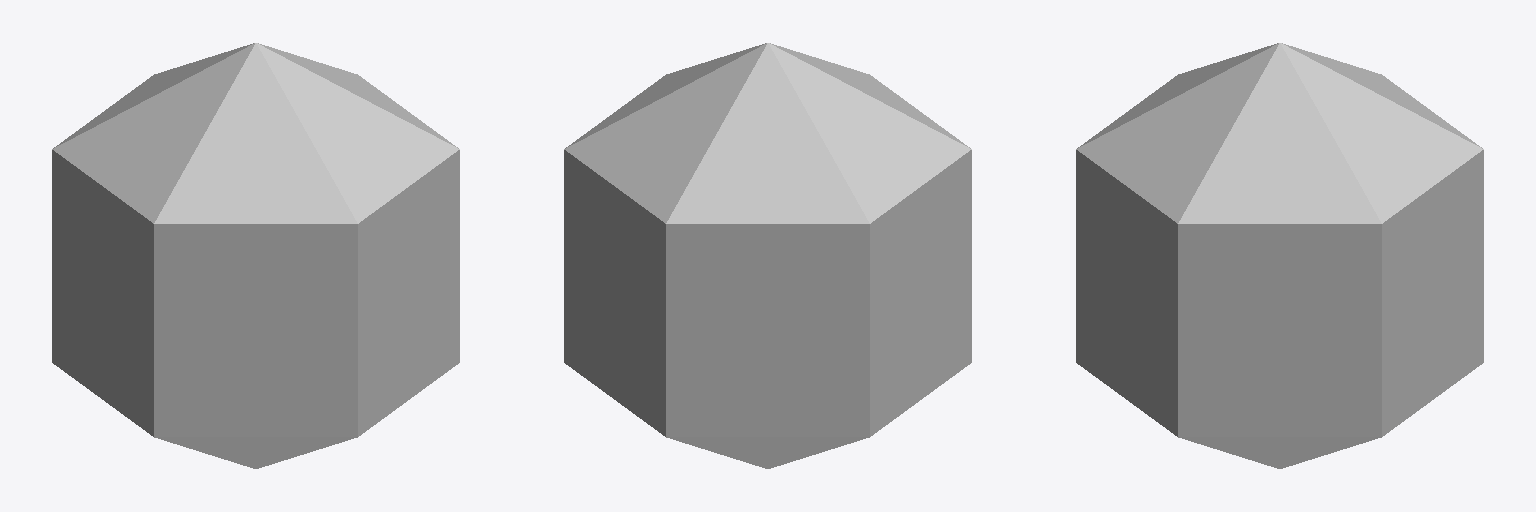
Rendered from Ball.obj.
3 views of the same model, side by side, from view 1: azimuth 30°, elevation 25°; view 2: azimuth 150°, elevation 25°; view 3: azimuth 270°, elevation 25° (orthographic).
Visible parts, largest first — view 1: 球; view 2: 球; view 3: 球.
Part boxes in pixels (x1,y1,x2,y2): 球: (52, 43, 459, 468); 球: (564, 43, 971, 468); 球: (1076, 43, 1483, 468).
Bounding box in the file's own units: 0.75 × 1 × 0.866.